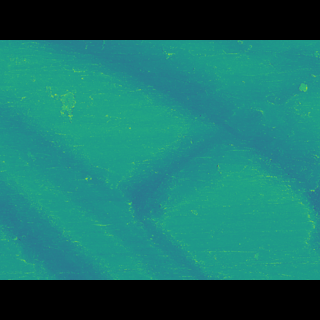Loch: (103, 69, 319, 165), (179, 142, 320, 233), (0, 177, 118, 250)
